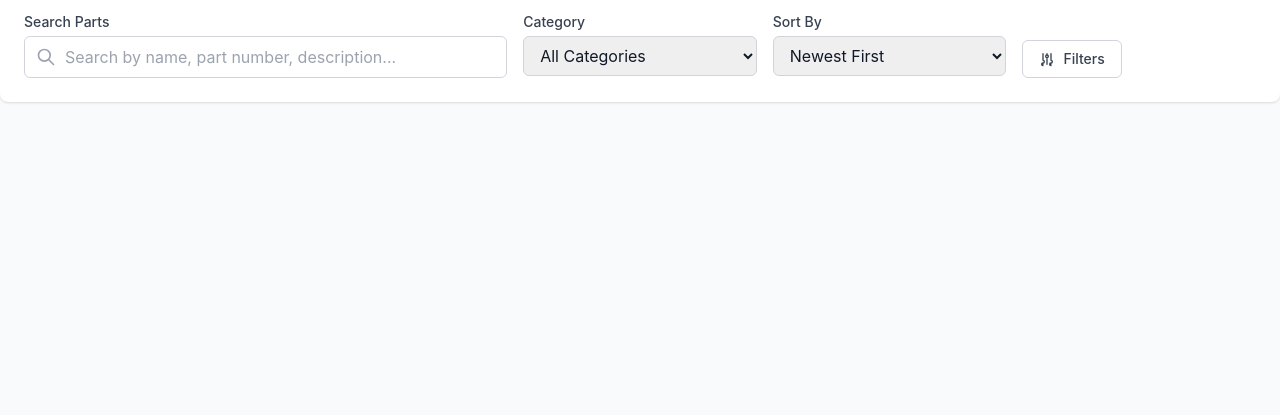
Test: PartsFilters › Advanced Filters Toggle › shows advanced filters when toggle button is clicked
This screenshot has width=1280, height=415.
Click the button at (1072, 59), box [1022, 40, 1122, 78]
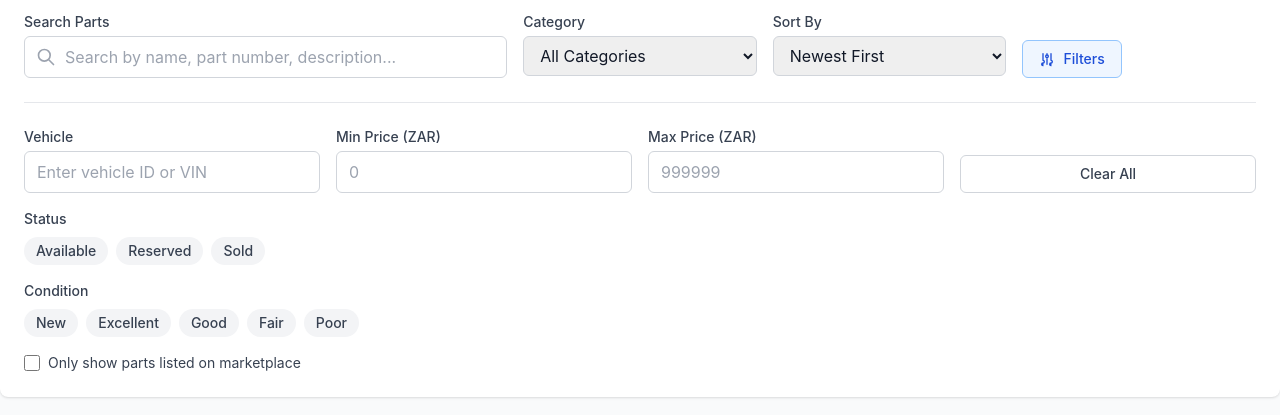
Result: the text "Vehicle" is shown at [24, 128, 73, 145]
Result: the text "Min Price (ZAR)" is shown at [336, 128, 441, 145]
Result: the text "Max Price (ZAR)" is shown at [648, 128, 757, 145]
